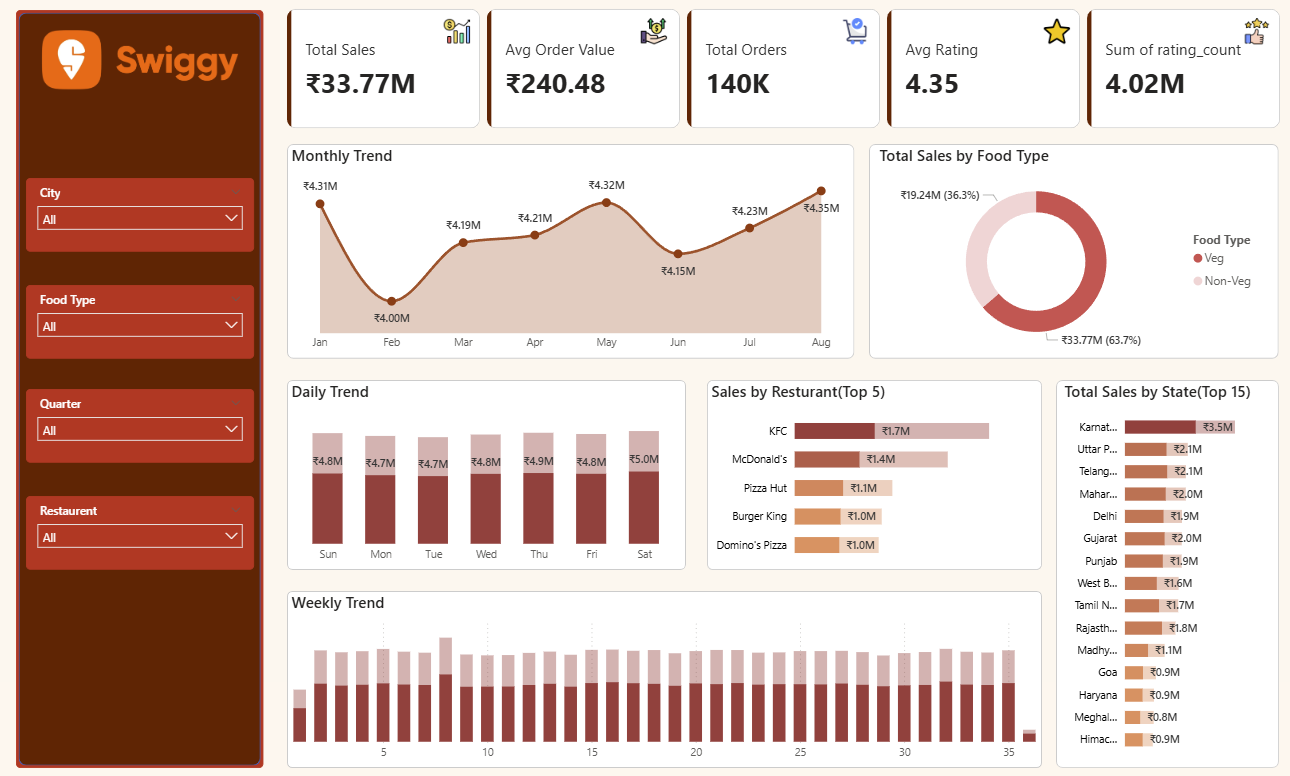

This screenshot's page, from the dashboard's own definition file:
{"tool":"powerbi","page":{"name":"Swiggy_Report","canvas":[1500,900],"ordinal":0},"visuals":[{"type":"shape","box":[40.2,17.8,281.8,864.2],"z":0},{"type":"cardVisual","fields":{"Data":["swiggy_project fact_orders.Total Sales","swiggy_project fact_orders.Avg Order Value","swiggy_project fact_orders.Total Orders","Avg(swiggy_project fact_orders.rating)","Sum(swiggy_project fact_orders.rating_count)"]},"box":[331.7,0,1168.3,171],"z":1000},{"type":"image","box":[525.8,27.4,33.4,29.8],"z":2000},{"type":"image","box":[750,27.4,33.4,29.8],"z":3000},{"type":"image","box":[978.9,27.4,33.4,29.8],"z":4000},{"type":"image","box":[1209.1,27.4,33.4,29.8],"z":5000},{"type":"image","box":[1436.8,27.4,33.4,29.8],"z":6000},{"type":"image","box":[51.3,27.4,259.9,95.4],"z":7000},{"type":"shape","box":[348.7,171.4,646.6,244.7],"z":8000},{"type":"areaChart","title":"Monthly Trend","fields":{"Category":["swiggy_project dim_date.Month"],"Y":["swiggy_project fact_orders.Total Sales"]},"box":[348.7,171.4,646.6,244.7],"z":9000},{"type":"shape","box":[1011.8,171.4,466.9,244.7],"z":10000},{"type":"donutChart","fields":{"Category":["swiggy_project dim_dish.Food Type"],"Y":["swiggy_project fact_orders.Total Sales"]},"box":[1019,171,451.4,245.1],"z":11000},{"type":"shape","box":[348.8,440,454.8,216.6],"z":12000},{"type":"columnChart","title":"Daily Trend","fields":{"Category":["swiggy_project dim_date.Day"],"Y":["swiggy_project fact_orders.Total Sales"]},"box":[348.8,440,454.8,216.6],"z":13000},{"type":"shape","box":[827.5,440,381.8,216.6],"z":14000},{"type":"barChart","title":"Sales by Resturant(Top 5)","fields":{"Category":["swiggy_project dim_restaurant.restaurant_name"],"Y":["swiggy_project fact_orders.Total Sales"]},"box":[827.5,440,381.8,216.6],"z":15000},{"type":"shape","box":[1225.3,440,254.2,442.2],"z":16000},{"type":"barChart","title":"Total Sales by State(Top 15)","fields":{"Category":["swiggy_project dim_location (1).state"],"Y":["swiggy_project fact_orders.Total Sales"]},"box":[1229.9,440,245.1,433.1],"z":17000},{"type":"shape","box":[348.8,680.5,860.6,201.8],"z":18000},{"type":"columnChart","title":"Weekly Trend","fields":{"Category":["swiggy_project dim_date.Week Number"],"Y":["swiggy_project fact_orders.Total Sales"]},"box":[348.8,680.5,860.6,201.8],"z":19000},{"type":"slicer","fields":{"Values":["swiggy_project dim_location (1).city"]},"box":[51.3,209.7,259.9,84.3],"z":20000},{"type":"slicer","fields":{"Values":["swiggy_project dim_dish.Food Type"]},"box":[51.3,331.7,259.9,84.3],"z":20001},{"type":"slicer","fields":{"Values":["swiggy_project dim_date.Quarter"]},"box":[51.3,450.2,259.9,84.3],"z":20002},{"type":"slicer","fields":{"Values":["swiggy_project dim_location (1).city"]},"box":[51.3,572.2,259.9,84.3],"z":20003}]}

Visuals, with their boxes in screenshot pixels (x1, y1, x2, y2), scaled from the page's 1500x900 canvas onto the 1290x776 screenshot:
shape: 35 15 277 760
cardVisual - swiggy_project fact_orders.Total Sales x swiggy_project fact_orders.Avg Order Value: 285 0 1289 147
image: 452 24 481 49
image: 645 24 674 49
image: 842 24 871 49
image: 1040 24 1069 49
image: 1236 24 1264 49
image: 44 24 268 106
shape: 300 148 856 359
"Monthly Trend" areaChart: 300 148 856 359
shape: 870 148 1272 359
donutChart - swiggy_project dim_dish.Food Type x swiggy_project fact_orders.Total Sales: 876 147 1265 359
shape: 300 379 691 566
"Daily Trend" columnChart: 300 379 691 566
shape: 712 379 1040 566
"Sales by Resturant(Top 5)" barChart: 712 379 1040 566
shape: 1054 379 1272 761
"Total Sales by State(Top 15)" barChart: 1058 379 1268 753
shape: 300 587 1040 761
"Weekly Trend" columnChart: 300 587 1040 761
slicer - swiggy_project dim_location (1).city: 44 181 268 253
slicer - swiggy_project dim_dish.Food Type: 44 286 268 359
slicer - swiggy_project dim_date.Quarter: 44 388 268 461
slicer - swiggy_project dim_location (1).city: 44 493 268 566
